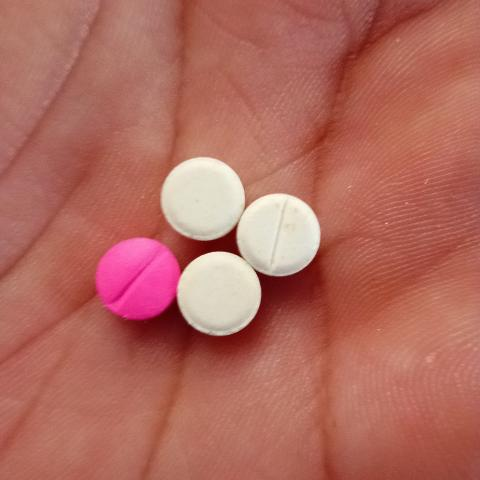Pill: (146, 126, 257, 243), (234, 175, 329, 283), (181, 247, 274, 345)
